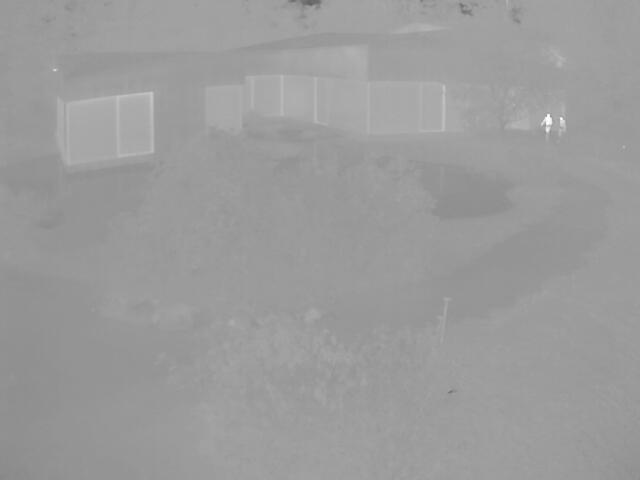person: (541, 112, 551, 139), (556, 115, 567, 135)
